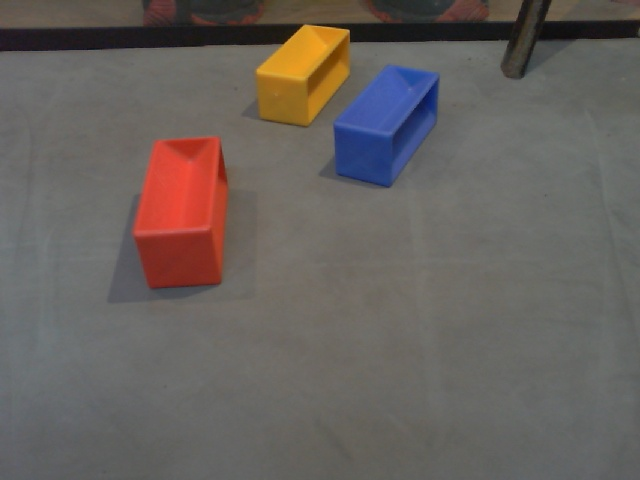BlueSample: (330, 60, 439, 190)
RedSample: (129, 133, 231, 297)
YellowSample: (252, 22, 353, 130)
